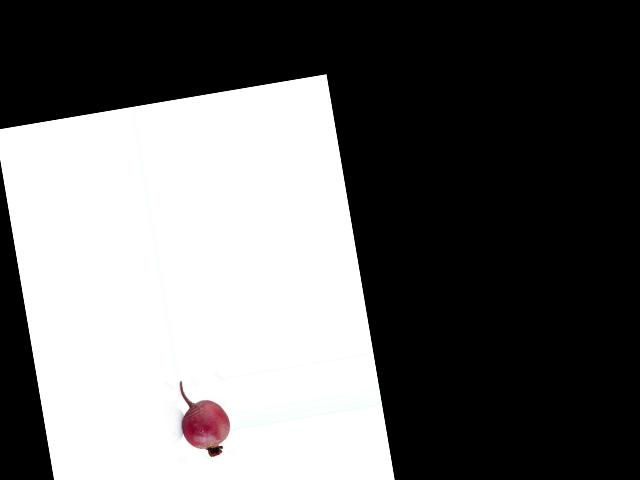beet: (174, 374, 234, 460)
